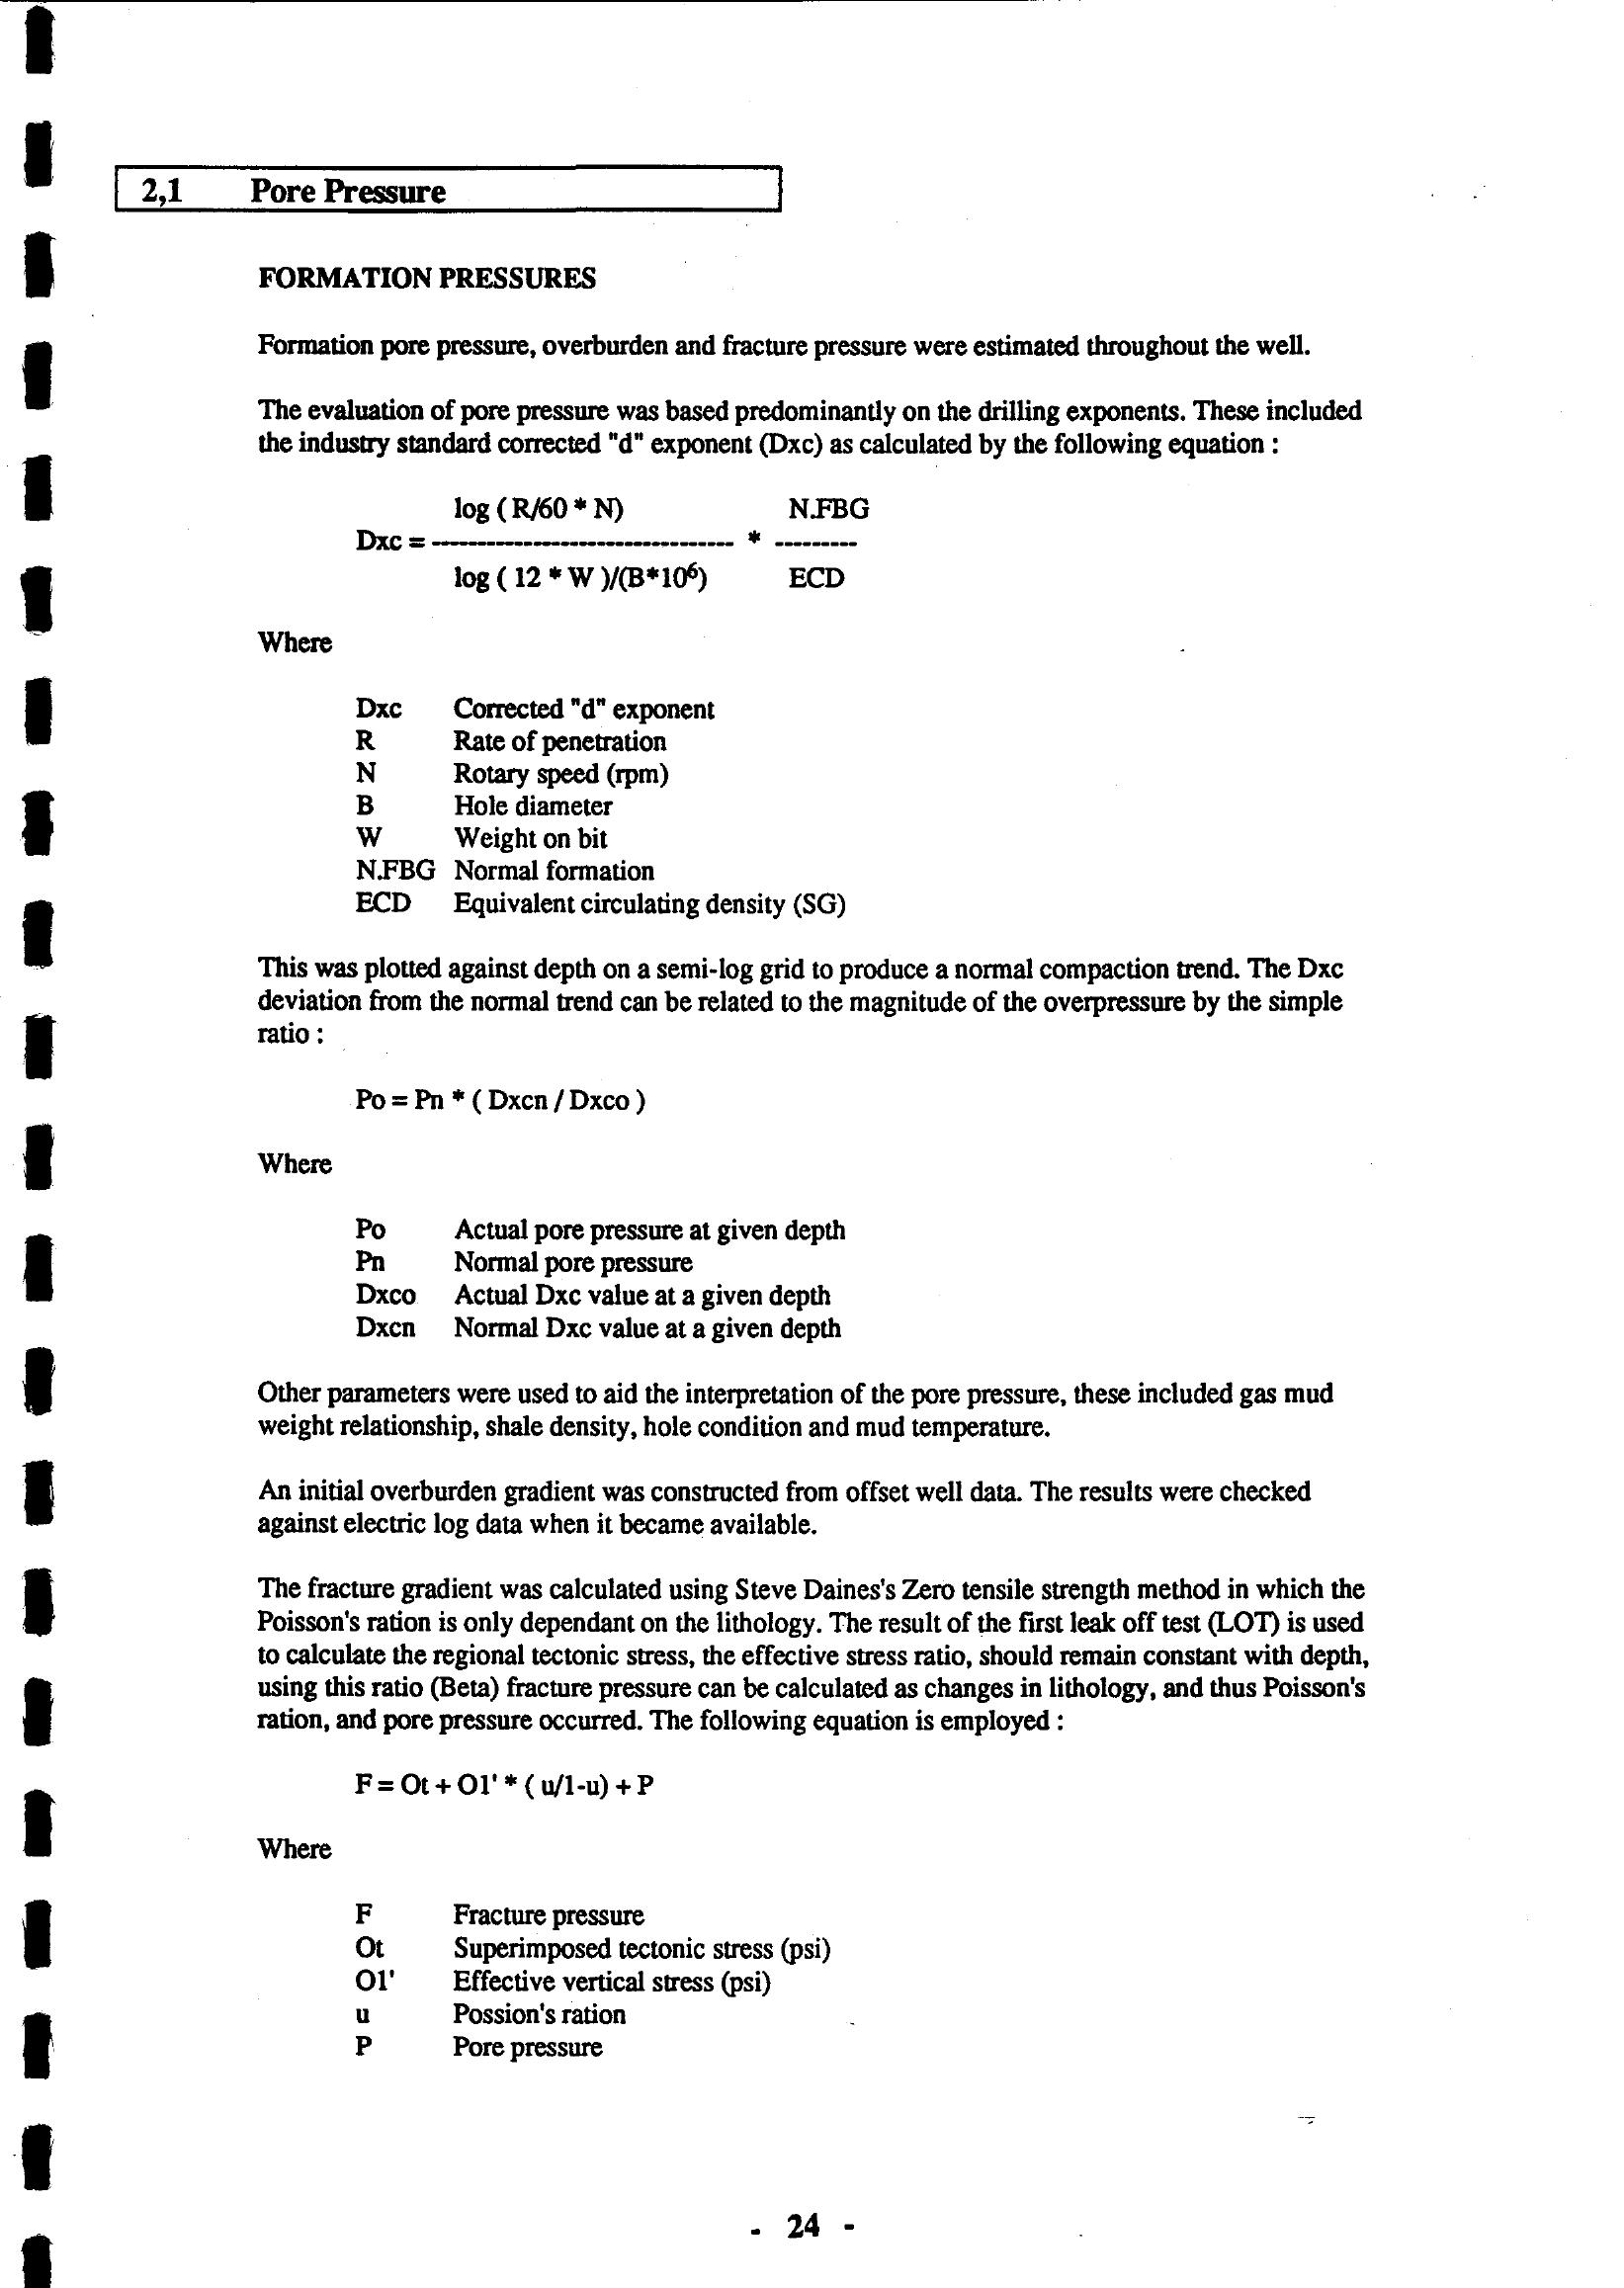text: (83, 144, 1438, 2119)
